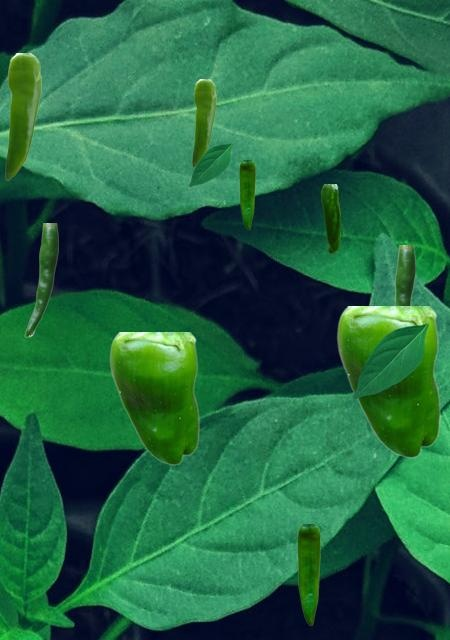green_chili: (336, 306, 439, 457), (109, 332, 198, 464), (5, 53, 40, 179), (24, 223, 57, 336), (297, 524, 319, 624), (192, 79, 215, 166), (321, 184, 339, 252), (394, 245, 414, 305), (239, 160, 254, 228)
